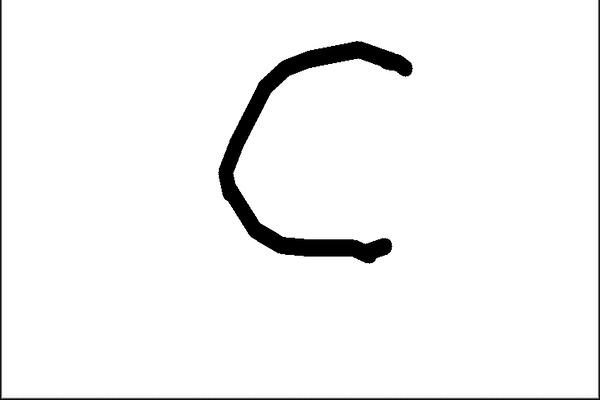C: (214, 33, 416, 265)
